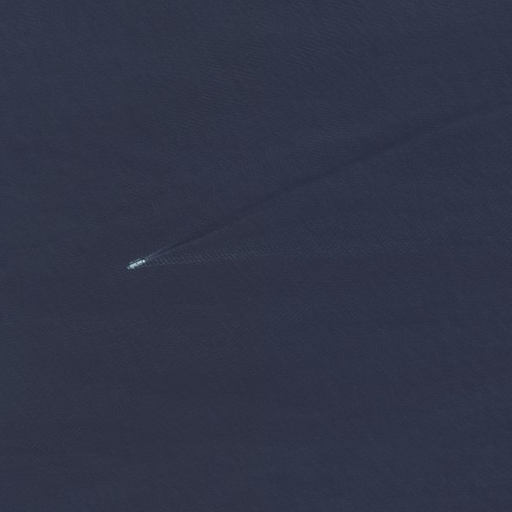ship: (125, 256, 147, 275)
